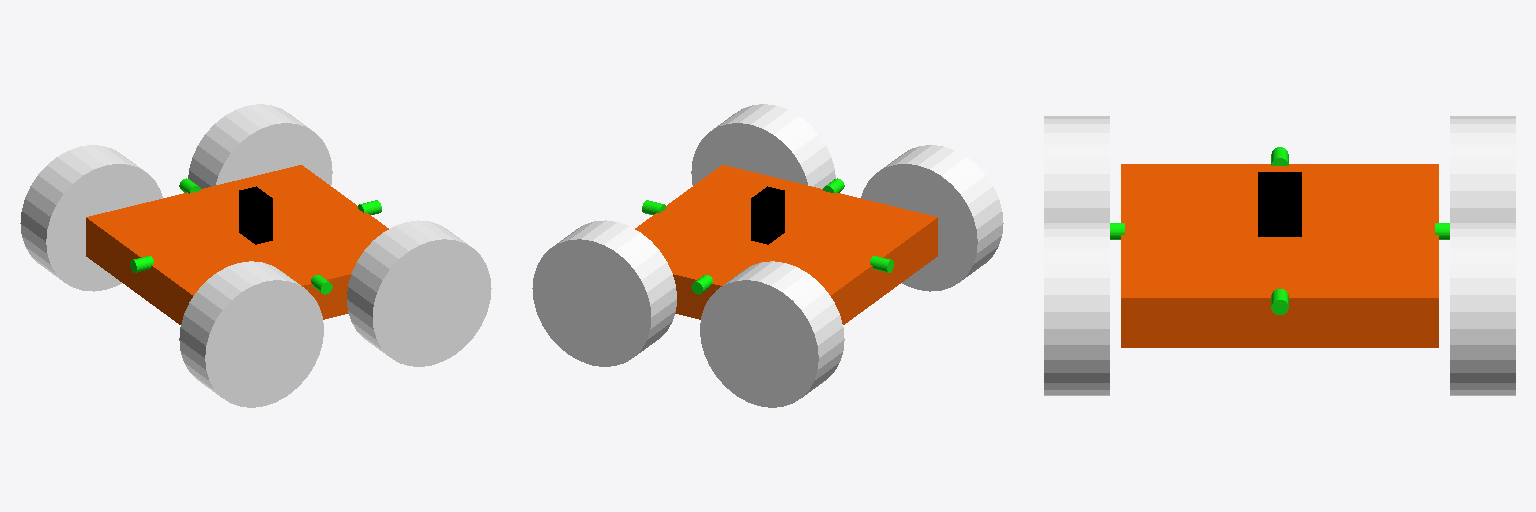
URDF robot description (mecanum):
<?xml version="1.0" ?>
<!-- =================================================================================== -->
<!-- |    This document was autogenerated by xacro from robot_omni.xacro               | -->
<!-- |    EDITING THIS FILE BY HAND IS NOT RECOMMENDED                                 | -->
<!-- =================================================================================== -->
<robot name="mecanum">
  <gazebo>
    <plugin filename="libgazebo_ros_control.so" name="gazebo_ros_control">
      <robotNamespace>/omni_control</robotNamespace>
      <robotSimType>gazebo_ros_control/DefaultRobotHWSim</robotSimType>
    </plugin>
  </gazebo>
  <gazebo>
    <plugin filename="libmecanum.so" name="mecanum"/>
  </gazebo>
  <gazebo reference="base_link">
    <material>Gazebo/Orange</material>
  </gazebo>
  <gazebo reference="fl_link">
    <material>Gazebo/Gray</material>
  </gazebo>
  <gazebo reference="fr_link">
    <material>Gazebo/Gray</material>
  </gazebo>
  <gazebo reference="bl_link">
    <material>Gazebo/Gray</material>
  </gazebo>
  <gazebo reference="br_link">
    <material>Gazebo/Gray</material>
  </gazebo>
  <gazebo reference="range_front">
    <material>Gazebo/Green</material>
  </gazebo>
  <gazebo reference="range_left">
    <material>Gazebo/Green</material>
  </gazebo>
  <gazebo reference="range_right">
    <material>Gazebo/Green</material>
  </gazebo>
  <gazebo reference="range_rear">
    <material>Gazebo/Green</material>
  </gazebo>
  <gazebo reference="camera">
    <material>Gazebo/Black</material>
    <sensor name="camera1" type="camera">
      <update_rate>30.0</update_rate>
      <visualize>true</visualize>
      <camera name="head">
        <horizontal_fov>1.57</horizontal_fov>
        <image>
          <width>720</width>
          <height>480</height>
          <format>R8G8B8</format>
        </image>
        <clip>
          <near>0.02</near>
          <far>16</far>
        </clip>
      </camera>
      <plugin filename="libgazebo_ros_camera.so" name="camera_controller">
        <alwaysOn>true</alwaysOn>
        <updateRate>0.0</updateRate>
        <cameraName>head/camera1</cameraName>
        <imageTopicName>image_raw</imageTopicName>
        <cameraInfoTopicName>camera_info</cameraInfoTopicName>
        <frameName>camera</frameName>
        <hackBaseline>0.07</hackBaseline>
        <distortionK1>0.0</distortionK1>
        <distortionK2>0.0</distortionK2>
        <distortionK3>0.0</distortionK3>
        <distortionT1>0.0</distortionT1>
        <distortionT2>0.0</distortionT2>
      </plugin>
    </sensor>
  </gazebo>
  <gazebo reference="range_front">
    <sensor name="range_front" type="ray">
      <pose>0 0 0 0 0 0</pose>
      <update_rate>5</update_rate>
      <ray>
        <scan>
          <horizontal>
            <samples>5</samples>
            <resolution>1.0</resolution>
            <min_angle>-0.05</min_angle>
            <max_angle>0.05</max_angle>
          </horizontal>
          <vertical>
            <samples>5</samples>
            <resolution>1</resolution>
            <min_angle>-0.05</min_angle>
            <max_angle>0.05</max_angle>
          </vertical>
        </scan>
        <range>
          <min>0.01</min>
          <max>0.9</max>
          <resolution>0.01</resolution>
        </range>
      </ray>
      <plugin filename="libgazebo_ros_range.so" name="gazebo_ros_range">
        <gaussianNoise>0.005</gaussianNoise>
        <alwaysOn>true</alwaysOn>
        <updateRate>5</updateRate>
        <topicName>range/front</topicName>
        <frameName>range_front</frameName>
        <fov>0.1</fov>
        <radiation>ultrasound</radiation>
      </plugin>
    </sensor>
  </gazebo>
  <gazebo reference="range_left">
    <sensor name="range_left" type="ray">
      <pose>0 0 0 0 0 0</pose>
      <update_rate>5</update_rate>
      <ray>
        <scan>
          <horizontal>
            <samples>5</samples>
            <resolution>1.0</resolution>
            <min_angle>-0.05</min_angle>
            <max_angle>0.05</max_angle>
          </horizontal>
          <vertical>
            <samples>5</samples>
            <resolution>1</resolution>
            <min_angle>-0.05</min_angle>
            <max_angle>0.05</max_angle>
          </vertical>
        </scan>
        <range>
          <min>0.01</min>
          <max>0.9</max>
          <resolution>0.01</resolution>
        </range>
      </ray>
      <plugin filename="libgazebo_ros_range.so" name="gazebo_ros_range">
        <gaussianNoise>0.005</gaussianNoise>
        <alwaysOn>true</alwaysOn>
        <updateRate>5</updateRate>
        <topicName>range/left</topicName>
        <frameName>range_left</frameName>
        <fov>0.1</fov>
        <radiation>ultrasound</radiation>
      </plugin>
    </sensor>
  </gazebo>
  <gazebo reference="range_right">
    <sensor name="range_right" type="ray">
      <pose>0 0 0 0 0 0</pose>
      <update_rate>5</update_rate>
      <ray>
        <scan>
          <horizontal>
            <samples>5</samples>
            <resolution>1.0</resolution>
            <min_angle>-0.05</min_angle>
            <max_angle>0.05</max_angle>
          </horizontal>
          <vertical>
            <samples>5</samples>
            <resolution>1</resolution>
            <min_angle>-0.05</min_angle>
            <max_angle>0.05</max_angle>
          </vertical>
        </scan>
        <range>
          <min>0.01</min>
          <max>0.9</max>
          <resolution>0.01</resolution>
        </range>
      </ray>
      <plugin filename="libgazebo_ros_range.so" name="gazebo_ros_range">
        <gaussianNoise>0.005</gaussianNoise>
        <alwaysOn>true</alwaysOn>
        <updateRate>5</updateRate>
        <topicName>range/right</topicName>
        <frameName>range_right</frameName>
        <fov>0.1</fov>
        <radiation>ultrasound</radiation>
      </plugin>
    </sensor>
  </gazebo>
  <gazebo reference="range_rear">
    <sensor name="range_rear" type="ray">
      <pose>0 0 0 0 0 0</pose>
      <update_rate>5</update_rate>
      <ray>
        <scan>
          <horizontal>
            <samples>5</samples>
            <resolution>1.0</resolution>
            <min_angle>-0.05</min_angle>
            <max_angle>0.05</max_angle>
          </horizontal>
          <vertical>
            <samples>5</samples>
            <resolution>1</resolution>
            <min_angle>-0.05</min_angle>
            <max_angle>0.05</max_angle>
          </vertical>
        </scan>
        <range>
          <min>0.01</min>
          <max>0.9</max>
          <resolution>0.01</resolution>
        </range>
      </ray>
      <plugin filename="libgazebo_ros_range.so" name="gazebo_ros_range">
        <gaussianNoise>0.005</gaussianNoise>
        <alwaysOn>true</alwaysOn>
        <updateRate>5</updateRate>
        <topicName>range/rear</topicName>
        <frameName>range_rear</frameName>
        <fov>0.1</fov>
        <radiation>ultrasound</radiation>
      </plugin>
    </sensor>
  </gazebo>
  <material name="black">
    <color rgba="0.0 0.0 0.0 1.0"/>
  </material>
  <material name="blue">
    <color rgba="0.0 0.0 0.8 1.0"/>
  </material>
  <material name="green">
    <color rgba="0.11764705882352941 1.0 0.11764705882352941 1.0"/>
  </material>
  <material name="grey">
    <color rgba="0.2 0.2 0.2 1.0"/>
  </material>
  <material name="orange">
    <color rgba="1.0 0.4235294117647059 0.0392156862745098 1.0"/>
  </material>
  <material name="brown">
    <color rgba="0.8705882352941177 0.8117647058823529 0.7647058823529411 1.0"/>
  </material>
  <material name="red">
    <color rgba="0.8 0.0 0.0 1.0"/>
  </material>
  <material name="white">
    <color rgba="1.0 1.0 1.0 1.0"/>
  </material>
  <!--~~~~~~~~~~~~~~~~~~~~~~~~ ~ ROBOT BASE ~ ~~~~~~~~~~~~~~~~~~~~~~~~~~~~~~-->
  <link name="base_link">
    <collision>
      <origin rpy="0 0 0" xyz="0 0 0.0"/>
      <geometry>
        <box size="0.3683 0.3683 0.0635"/>
      </geometry>
    </collision>
    <visual>
      <origin rpy="0 0 0" xyz="0 0 0.0"/>
      <geometry>
        <box size="0.3683 0.3683 0.0635"/>
      </geometry>
      <material name="orange"/>
    </visual>
    <inertial>
      <mass value="3.1"/>
      <origin rpy="0 0 0" xyz="0 0 0"/>
      <inertia ixx="1e-1" ixy="0" ixz="0" iyy="1e-1" iyz="0" izz="1e-1"/>
    </inertial>
  </link>
  <link name="fl_link">
    <visual>
      <origin rpy="1.5707963267948966 0.0 0.0" xyz="0 0 0"/>
      <geometry>
        <cylinder length="0.0762" radius="0.1016"/>
        <!-- <mesh filename="package://nav/urdf/omniurdf/Left_wheel.stl" scale="0.0015 0.0015 0.0015"/> -->
      </geometry>
      <material name="white"/>
    </visual>
    <collision>
      <geometry>
        <cylinder length="0.0762" radius="0.1016"/>
      </geometry>
      <origin rpy="1.5707963267948966 0 0" xyz="0 0 0"/>
    </collision>
    <inertial>
      <mass value="0.01"/>
      <origin rpy="1.5707963267948966 0 0" xyz="0 0 0"/>
      <inertia ixx="1e-6" ixy="0" ixz="0" iyy="1e-6" iyz="0" izz="1e-6"/>
    </inertial>
  </link>
  <link name="fr_link">
    <visual>
      <origin rpy="1.5707963267948966 0 0" xyz="0 0 0"/>
      <geometry>
        <cylinder length="0.0762" radius="0.1016"/>
        <!-- <mesh filename="package://nav/urdf/omniurdf/Right_wheel.stl" scale="0.0015 0.0015 0.0015"/> -->
      </geometry>
      <material name="white"/>
    </visual>
    <collision>
      <geometry>
        <cylinder length="0.0762" radius="0.1016"/>
      </geometry>
      <origin rpy="1.5707963267948966 0 0" xyz="0 0 0"/>
    </collision>
    <inertial>
      <mass value="0.01"/>
      <origin rpy="1.5707963267948966 0 0" xyz="0 0 0"/>
      <inertia ixx="1e-6" ixy="0" ixz="0" iyy="1e-6" iyz="0" izz="1e-6"/>
    </inertial>
  </link>
  <link name="bl_link">
    <visual>
      <geometry>
        <cylinder length="0.0762" radius="0.1016"/>
        <!-- <mesh filename="package://nav/urdf/omniurdf/Right_wheel.stl" scale="0.0015 0.0015 0.0015"/> -->
      </geometry>
      <origin rpy="1.5707963267948966 0 0" xyz="0 0 0"/>
      <material name="white"/>
    </visual>
    <collision>
      <geometry>
        <cylinder length="0.0762" radius="0.1016"/>
      </geometry>
      <origin rpy="1.5707963267948966 0 0" xyz="0 0 0"/>
    </collision>
    <inertial>
      <mass value="0.01"/>
      <origin rpy="1.5707963267948966 0 0" xyz="0 0 0"/>
      <inertia ixx="1e-6" ixy="0" ixz="0" iyy="1e-6" iyz="0" izz="1e-6"/>
    </inertial>
  </link>
  <link name="br_link">
    <visual>
      <origin rpy="1.5707963267948966 0 0" xyz="0 0 0"/>
      <geometry>
        <cylinder length="0.0762" radius="0.1016"/>
        <!-- <mesh filename="package://nav/urdf/omniurdf/Left_wheel.stl" scale="0.0015 0.0015 0.0015"/> -->
      </geometry>
      <material name="white"/>
    </visual>
    <collision>
      <geometry>
        <cylinder length="0.0762" radius="0.1016"/>
      </geometry>
      <origin rpy="1.5707963267948966 0 0" xyz="0 0 0"/>
    </collision>
    <inertial>
      <mass value="0.01"/>
      <origin rpy="1.5707963267948966 0 0" xyz="0 0 0"/>
      <inertia ixx="1e-6" ixy="0" ixz="0" iyy="1e-6" iyz="0" izz="1e-6"/>
    </inertial>
  </link>
  <!-- ROBOT TOOLS -->
  <!-- <link name="claw_link">

      <collision>
        <origin xyz="0 0 0.0" rpy="0 0 0"/>
        <geometry>
          <box size="0.1 ${base_width + 0.23} ${base_height*3.3}"/>
        </geometry>
      </collision>

      <visual>
        <origin xyz="0 0.05 -0.34" rpy="0 0 ${-pi/2}"/>
        <geometry>
                                                            <box size="0.03 ${base_width + 0.23} ${base_height*2}"/>
          <mesh filename="package://nav/urdf/omniurdf/claw.stl" scale="0.15 0.1 0.07"/>
        </geometry>
        <material name="orange"/>
      </visual>

      <inertial>
        <mass value="0.1" />
        <origin xyz="0 0 0" rpy="0 0 0"/>
        <inertia ixx="1e-3" ixy="0" ixz="0" iyy="1e-3" iyz="0" izz="1e-3" />
      </inertial>
    </link>

    <joint type="fixed" name="claw_joint">
      <origin xyz="${base_length/2 + 0.15} 0 0" rpy="0 0 0"/>
      <child link="claw_link"/>
      <parent link="base_link"/>
    </joint> -->
  <!--~~~~~~~~~~~~~~~~~~~~~~~ ~ Sensors ~ ~~~~~~~~~~~~~~~~~~~~~~~~~~~~~-->
  <link name="camera">
    <visual name="camera_visual">
      <origin rpy=" 0 0 0" xyz="0 0 -0.05"/>
      <geometry>
        <box size=".03 .05 .10"/>
      </geometry>
      <material name="black"/>
    </visual>
  </link>
  <joint name="camera_joint" type="fixed">
    <origin rpy="0 0 0" xyz="0 0 0.1"/>
    <child link="camera"/>
    <parent link="base_link"/>
  </joint>
  <link name="range_front">
    <visual name="range_front_visual">
      <origin rpy="0 1.5707963267948966 0" xyz="0.01 0 0"/>
      <geometry>
        <cylinder length="0.03" radius="0.01"/>
      </geometry>
      <material name="green"/>
    </visual>
    <inertial>
      <origin rpy="0 0 0" xyz="0 0 0"/>
      <mass value="0.05"/>
      <inertia ixx="0.0007879166666666666" ixy="0.0" ixz="0.0" iyy="0.0007879166666666666" iyz="0.0" izz="0.0015625"/>
    </inertial>
  </link>
  <joint name="range_front_joint" type="fixed">
    <origin rpy="0 0 0" xyz="0.18415 0 0.03175"/>
    <child link="range_front"/>
    <parent link="base_link"/>
  </joint>
  <link name="range_rear">
    <visual name="range_rear_visual">
      <origin rpy="0 1.5707963267948966 0" xyz="0.01 0 0"/>
      <geometry>
        <cylinder length="0.03" radius="0.01"/>
      </geometry>
      <material name="green"/>
    </visual>
    <inertial>
      <origin rpy="0 0 0" xyz="0 0 0"/>
      <mass value="0.05"/>
      <inertia ixx="0.0007879166666666666" ixy="0.0" ixz="0.0" iyy="0.0007879166666666666" iyz="0.0" izz="0.0015625"/>
    </inertial>
  </link>
  <joint name="range_rear_joint" type="fixed">
    <origin rpy="0 0 3.141592653589793" xyz="-0.18415 0 0.03175"/>
    <child link="range_rear"/>
    <parent link="base_link"/>
  </joint>
  <link name="range_left">
    <visual name="range_left_visual">
      <origin rpy="0 1.5707963267948966 0" xyz="0.01 0 0"/>
      <geometry>
        <cylinder length="0.03" radius="0.01"/>
      </geometry>
      <material name="green"/>
    </visual>
    <inertial>
      <origin rpy="0 0 0" xyz="0 0 0"/>
      <mass value="0.05"/>
      <inertia ixx="0.0007879166666666666" ixy="0.0" ixz="0.0" iyy="0.0007879166666666666" iyz="0.0" izz="0.0015625"/>
    </inertial>
  </link>
  <joint name="range_left_joint" type="fixed">
    <origin rpy="0 0 1.5707963267948966" xyz="0 0.18415 0.03175"/>
    <child link="range_left"/>
    <parent link="base_link"/>
  </joint>
  <link name="range_right">
    <visual name="range_right_visual">
      <origin rpy="0 1.5707963267948966 0" xyz="0.01 0 0"/>
      <geometry>
        <cylinder length="0.03" radius="0.01"/>
      </geometry>
      <material name="green"/>
    </visual>
    <inertial>
      <origin rpy="0 0 0" xyz="0 0 0"/>
      <mass value="0.05"/>
      <inertia ixx="0.0007879166666666666" ixy="0.0" ixz="0.0" iyy="0.0007879166666666666" iyz="0.0" izz="0.0015625"/>
    </inertial>
  </link>
  <joint name="range_right_joint" type="fixed">
    <origin rpy="0 0 -1.5707963267948966" xyz="0 -0.18415 0.03175"/>
    <child link="range_right"/>
    <parent link="base_link"/>
  </joint>
  <!--~~~~~~~~~~~~~~~~~~~~~~~ ~ /Sensors ~ ~~~~~~~~~~~~~~~~~~~~~~~~~~~~~-->
  <joint name="fl_joint" type="continuous">
    <parent link="base_link"/>
    <child link="fl_link"/>
    <origin rpy="0 0 0" xyz="0.142875 0.23495 0.0"/>
    <axis xyz="0 1 0"/>
    <dynamics damping="1.0" friction="0.2" spring_stiffness="1"/>
    <limit effort="50" velocity="0.7"/>
  </joint>
  <transmission name="fl_joint_trans">
    <type>transmission_interface/SimpleTransmission</type>
    <joint name="fl_joint">
      <hardwareInterface>hardware_interface/VelocityJointInterface</hardwareInterface>
    </joint>
    <actuator name="fl_joint_wheel_motor">
      <hardwareInterface>hardware_interface/VelocityJointInterface</hardwareInterface>
      <mechanicalReduction>1</mechanicalReduction>
    </actuator>
  </transmission>
  <joint name="fr_joint" type="continuous">
    <parent link="base_link"/>
    <child link="fr_link"/>
    <origin rpy="0 0 0" xyz="0.142875 -0.23495 0.0"/>
    <axis xyz="0 1 0"/>
    <dynamics damping="1.0" friction="0.2" spring_stiffness="1"/>
    <limit effort="50" velocity="0.7"/>
  </joint>
  <transmission name="fr_joint_trans">
    <type>transmission_interface/SimpleTransmission</type>
    <joint name="fr_joint">
      <hardwareInterface>hardware_interface/VelocityJointInterface</hardwareInterface>
    </joint>
    <actuator name="fr_joint_wheel_motor">
      <hardwareInterface>hardware_interface/VelocityJointInterface</hardwareInterface>
      <mechanicalReduction>1</mechanicalReduction>
    </actuator>
  </transmission>
  <joint name="bl_joint" type="continuous">
    <parent link="base_link"/>
    <child link="bl_link"/>
    <origin rpy="0 0 0" xyz="-0.142875 0.23495 0.0"/>
    <axis xyz="0 1 0"/>
    <dynamics damping="1.0" friction="0.2" spring_stiffness="1"/>
    <limit effort="50" velocity="0.7"/>
  </joint>
  <transmission name="bl_joint_trans">
    <type>transmission_interface/SimpleTransmission</type>
    <joint name="bl_joint">
      <hardwareInterface>hardware_interface/VelocityJointInterface</hardwareInterface>
    </joint>
    <actuator name="bl_joint_wheel_motor">
      <hardwareInterface>hardware_interface/VelocityJointInterface</hardwareInterface>
      <mechanicalReduction>1</mechanicalReduction>
    </actuator>
  </transmission>
  <joint name="br_joint" type="continuous">
    <parent link="base_link"/>
    <child link="br_link"/>
    <origin rpy="0 0 0" xyz="-0.142875 -0.23495 0.0"/>
    <axis xyz="0 1 0"/>
    <dynamics damping="1.0" friction="0.2" spring_stiffness="1"/>
    <limit effort="50" velocity="0.7"/>
  </joint>
  <transmission name="br_joint_trans">
    <type>transmission_interface/SimpleTransmission</type>
    <joint name="br_joint">
      <hardwareInterface>hardware_interface/VelocityJointInterface</hardwareInterface>
    </joint>
    <actuator name="br_joint_wheel_motor">
      <hardwareInterface>hardware_interface/VelocityJointInterface</hardwareInterface>
      <mechanicalReduction>1</mechanicalReduction>
    </actuator>
  </transmission>
</robot>

--- Facts derived from the render (not from the file) ---
3 views of the same robot in one strip: view 1: azimuth 30°, elevation 25°; view 2: azimuth 150°, elevation 25°; view 3: azimuth 270°, elevation 25° (orthographic).
Model mecanum with 10 links and 9 joints (4 continuous, 5 fixed), rooted at base_link, posed all joints at 0.
Links seen in each view (by area): view 1: base_link, br_link, fr_link, bl_link, fl_link, camera; view 2: base_link, bl_link, fl_link, br_link, fr_link, camera; view 3: base_link, fl_link, fr_link, bl_link, br_link, camera.
Boxes of the visible links, <box> form: base_link: <box>86,165,388,324</box>; br_link: <box>179,261,323,407</box>; fr_link: <box>347,220,491,366</box>; bl_link: <box>20,145,162,291</box>; fl_link: <box>188,104,332,188</box>; camera: <box>239,186,272,244</box>; base_link: <box>635,165,937,324</box>; bl_link: <box>700,261,844,407</box>; fl_link: <box>532,220,676,366</box>; br_link: <box>861,145,1003,291</box>; fr_link: <box>691,104,835,188</box>; camera: <box>751,186,784,244</box>; base_link: <box>1121,164,1438,347</box>; fl_link: <box>1450,221,1515,395</box>; fr_link: <box>1044,221,1109,395</box>; bl_link: <box>1450,116,1515,220</box>; br_link: <box>1044,116,1109,220</box>; camera: <box>1258,172,1301,236</box>.
Bounding box of the posed robot: 0.4889 × 0.5461 × 0.2032 m (x, y, z).
Geometry: primitives only (box / cylinder / sphere), no mesh files.
